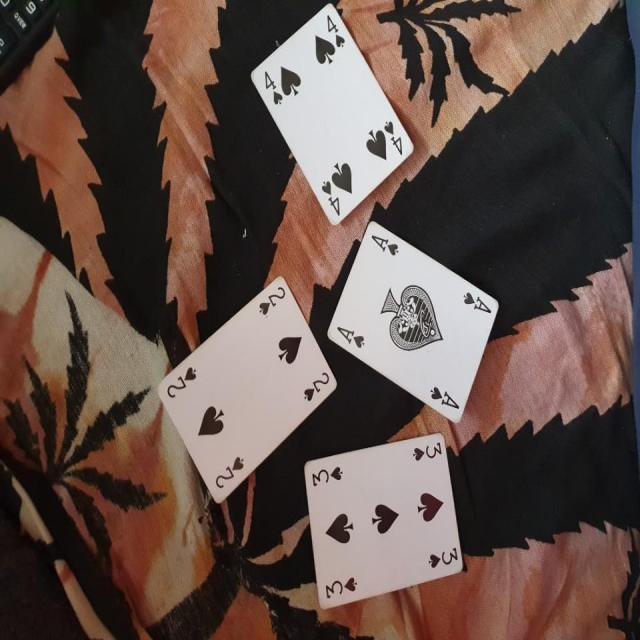2 Spades: (156, 276, 337, 510)
3 Spades: (300, 431, 472, 610)
4 Spades: (252, 8, 416, 225)
A Spades: (328, 222, 501, 426)
